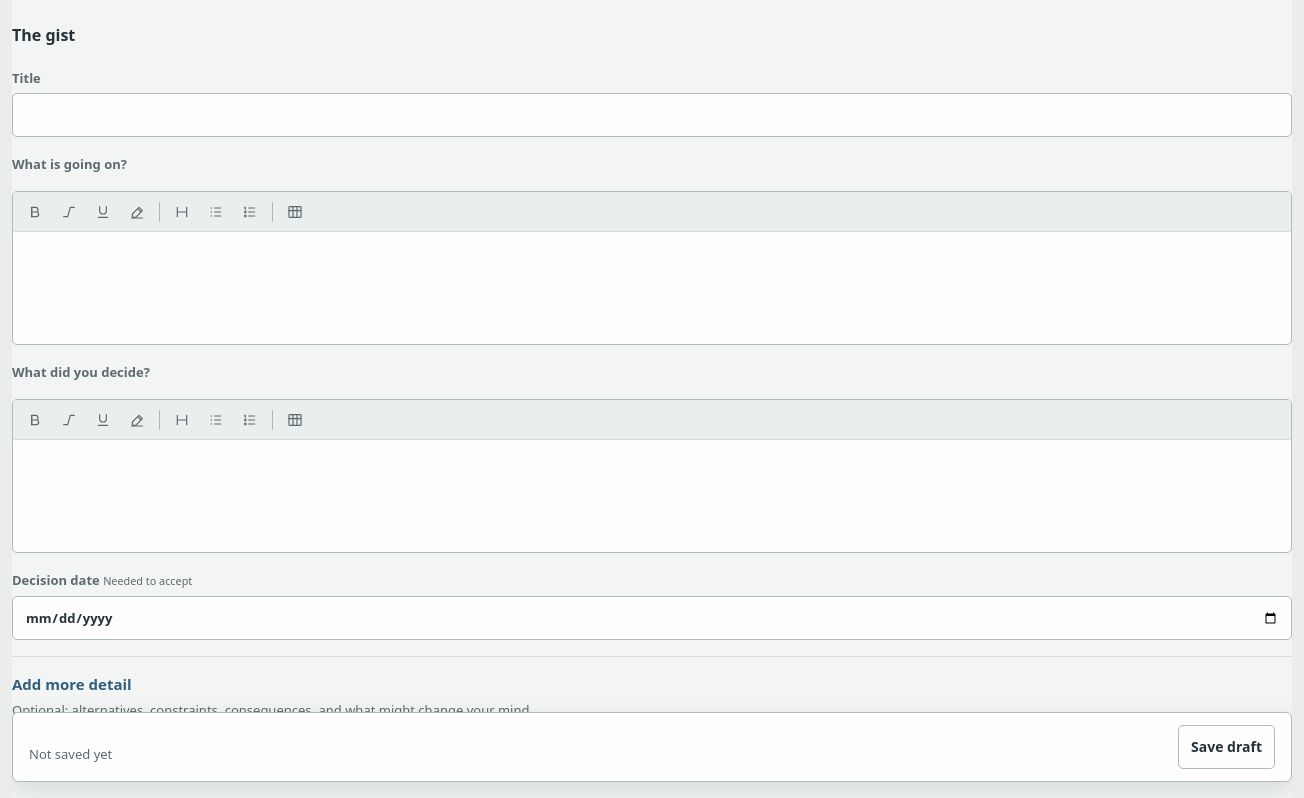
keeps a title-only Draft easy to save and hides deeper prompts until requested
The width and height of the screenshot is (1304, 798).
Expected: the date field labelled "Decision date Needed to accept" is shown, top-left (12, 596), bottom-right (1292, 640)
Type "Keep retries at the edge" into the field labelled "Title".
click(652, 115); type("Keep retries at the edge")  # box top-left (12, 93), bottom-right (1292, 137)
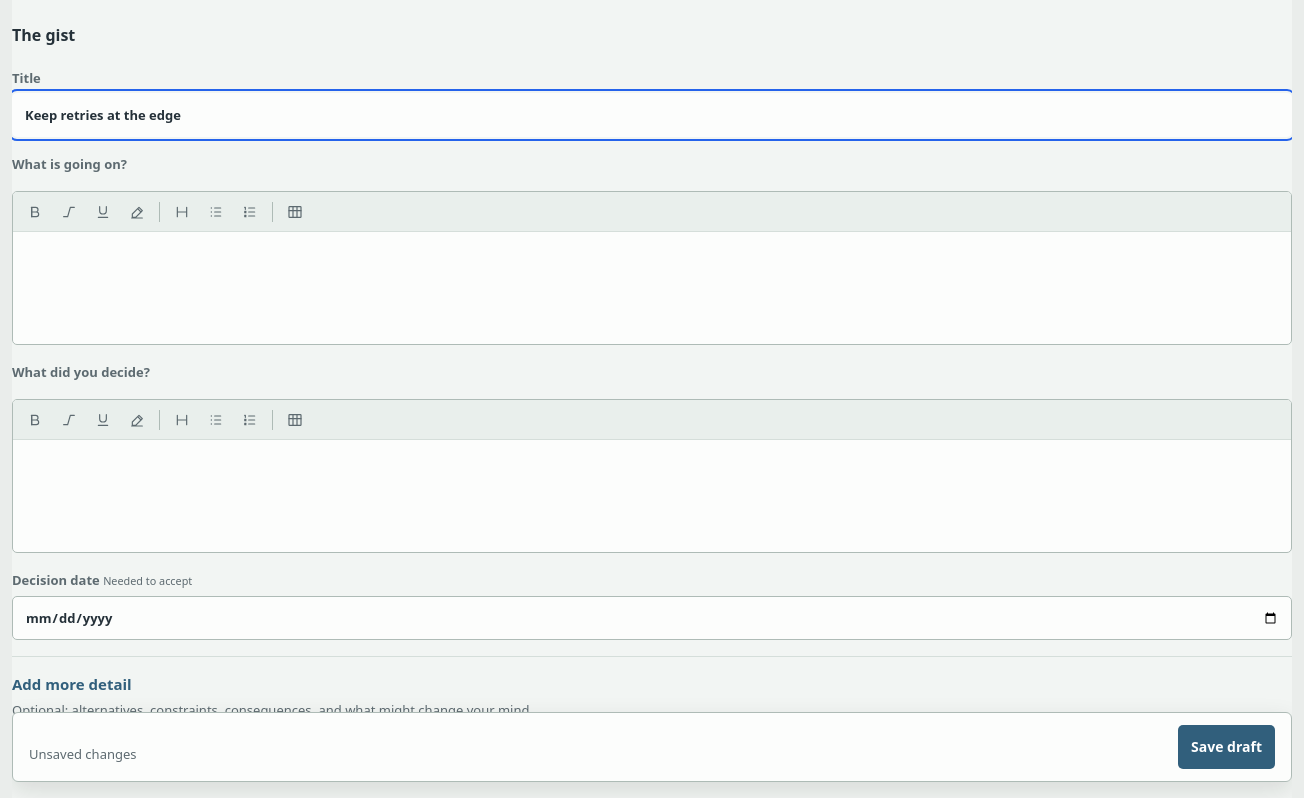
Click the button "Save draft".
click(1226, 747)  # box top-left (1178, 725), bottom-right (1275, 769)
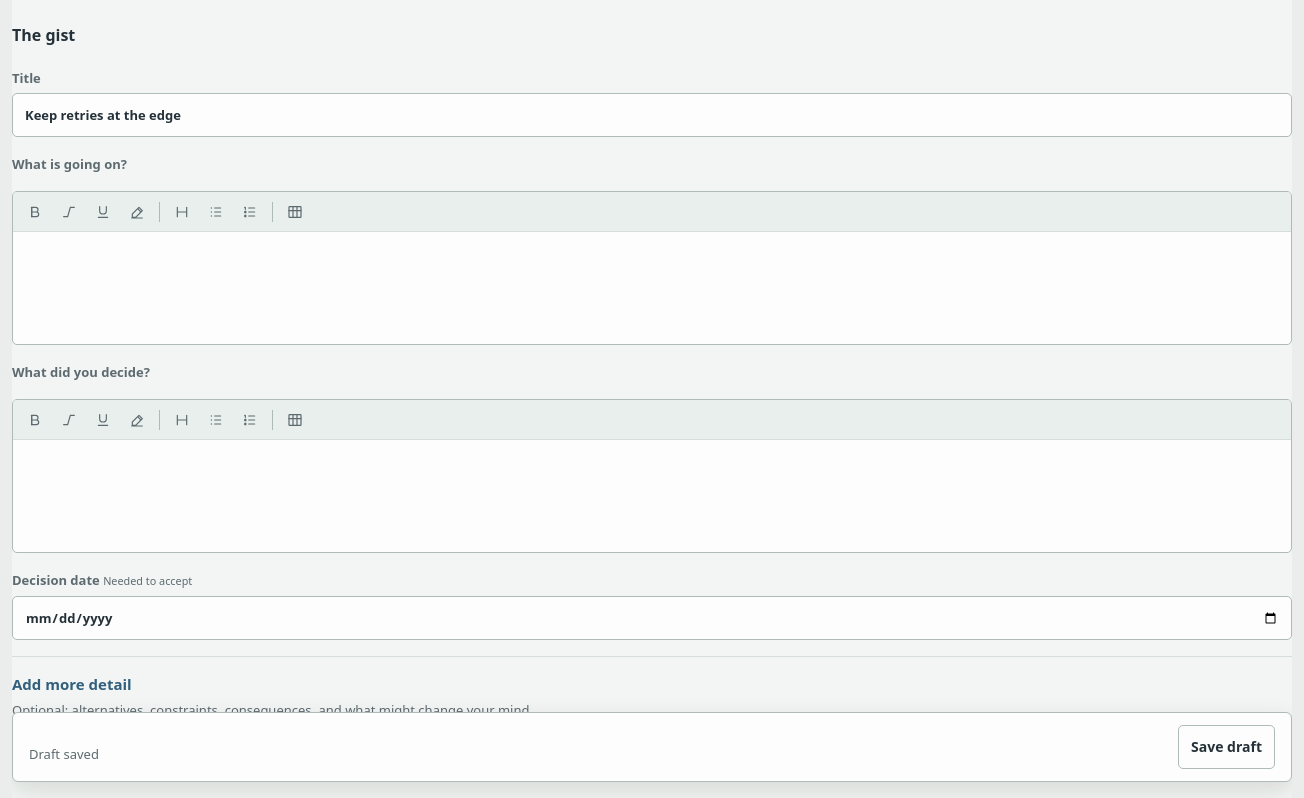
Click the heading "Add more detail".
click(72, 684)  # box top-left (12, 673), bottom-right (530, 721)
(page scrolled)
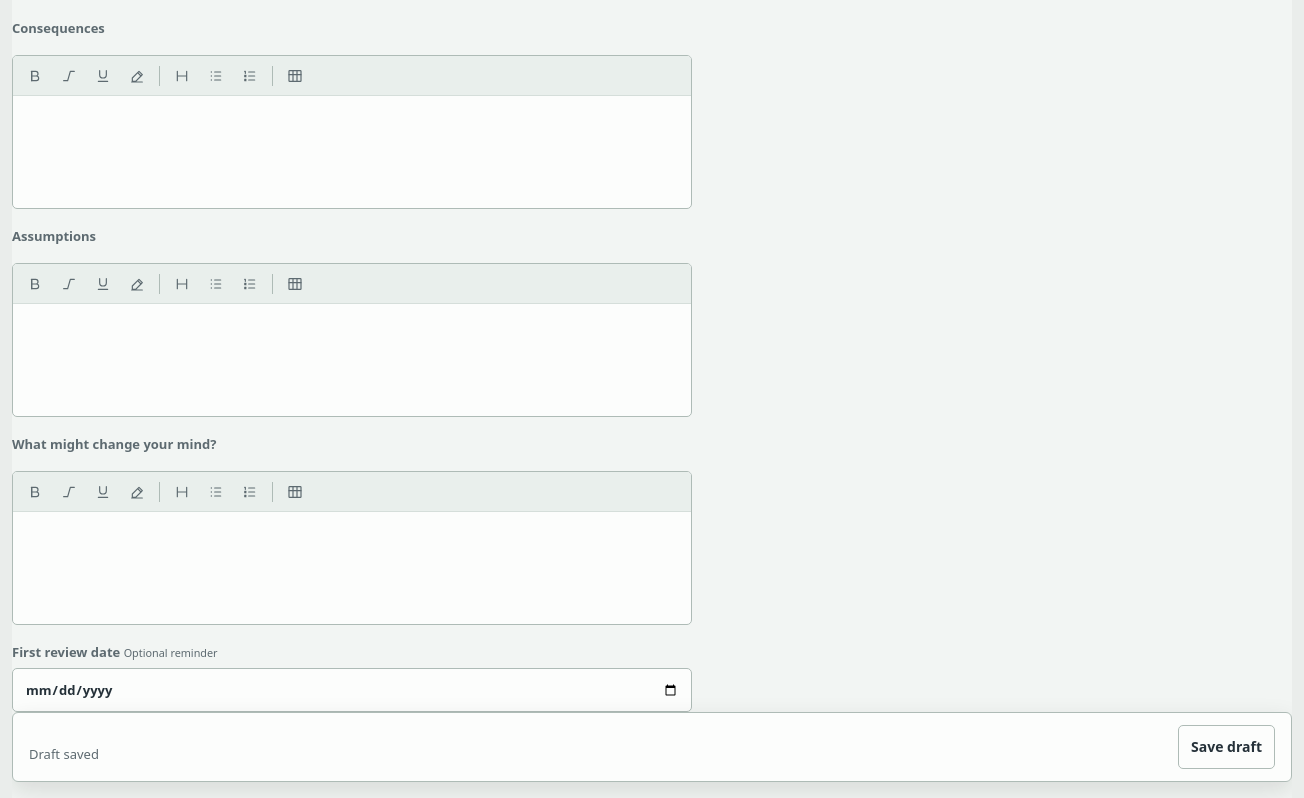
Expected: the field named "What might change your mind?" is shown, top-left (13, 512), bottom-right (691, 624)
Expected: the date field labelled "First review date Optional reminder" is shown, top-left (12, 668), bottom-right (692, 712)
